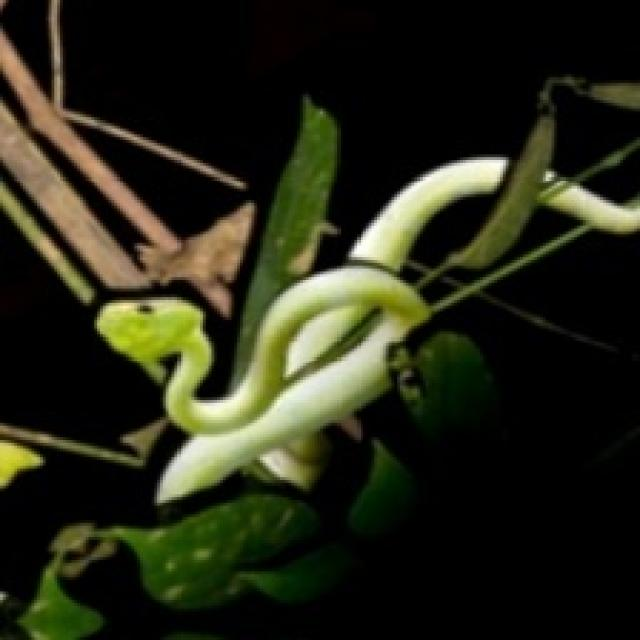north ph temple pitviper: (97, 157, 506, 500)
